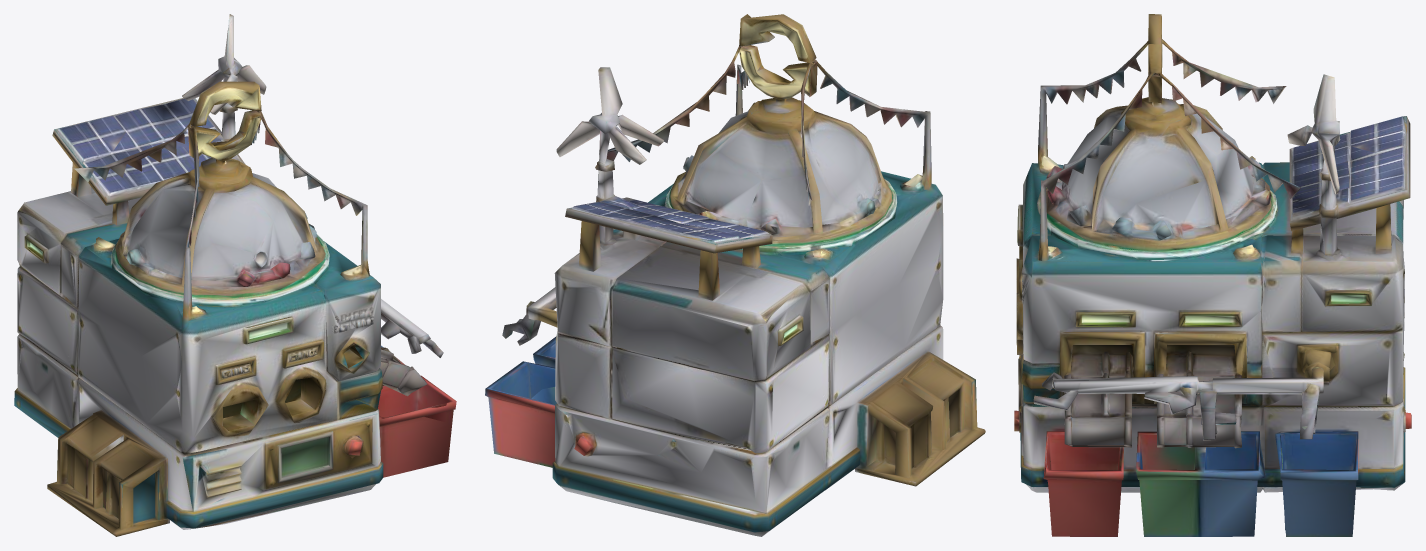
Rendered from recycle-5.glb.
3 renders of one model, left to right at view 1: azimuth 30°, elevation 25°; view 2: azimuth 150°, elevation 25°; view 3: azimuth 270°, elevation 25°, orthographic. The views are drawn at different scales.
Parts seen in each view (by area): view 1: node_0; view 2: node_0; view 3: node_0.
Boxes of the visible parts, <box> form: node_0: <box>14,14,456,536</box>; node_0: <box>485,14,985,536</box>; node_0: <box>1014,14,1411,536</box>.
Bounding box in the file's own units: 0.7398 × 0.8042 × 0.6819.
Materials: 1 (1 with a texture image).
